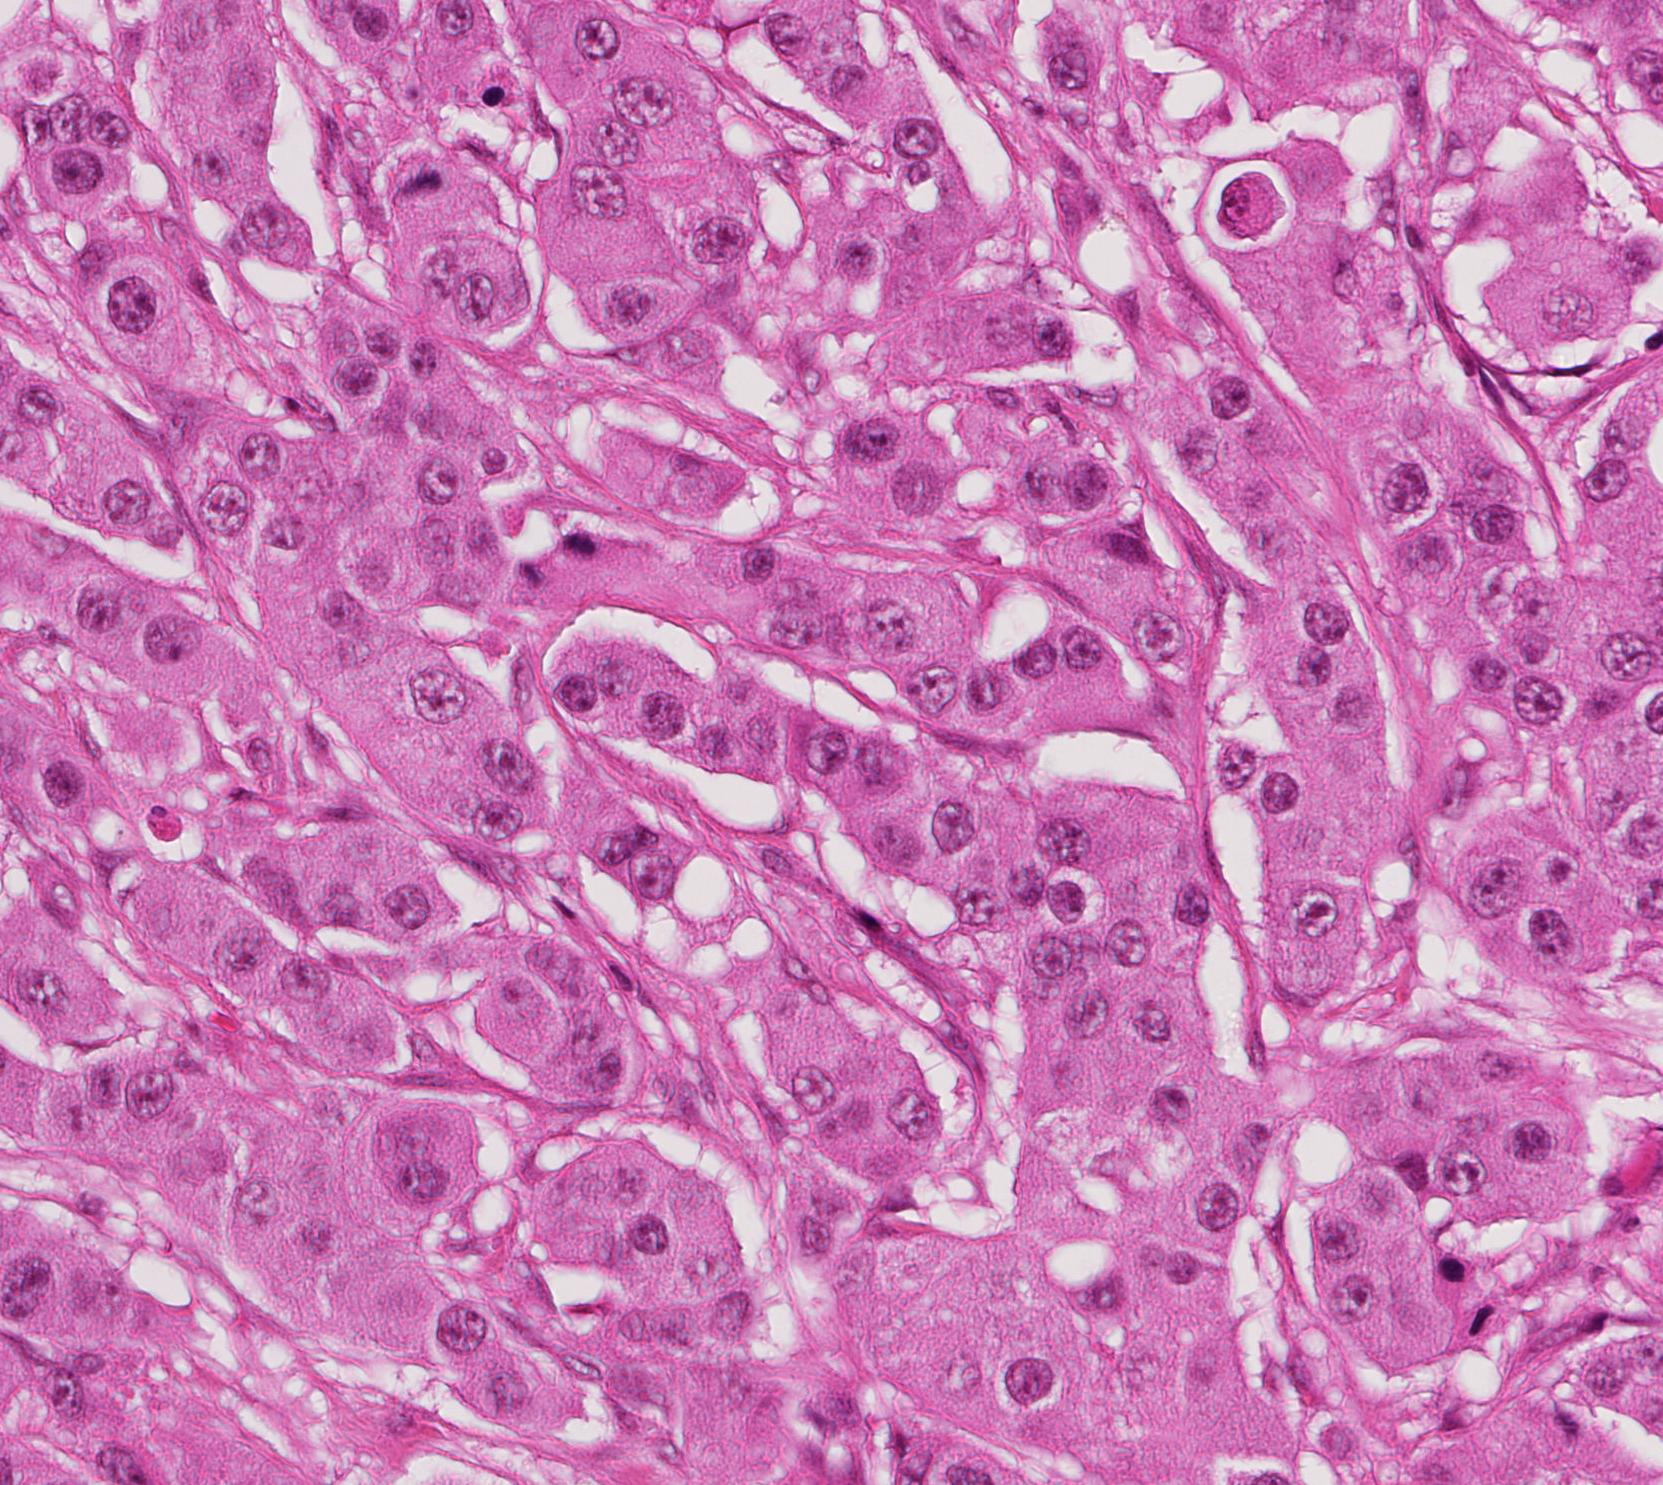mitosis: (387, 151, 447, 211), (525, 529, 583, 589)
